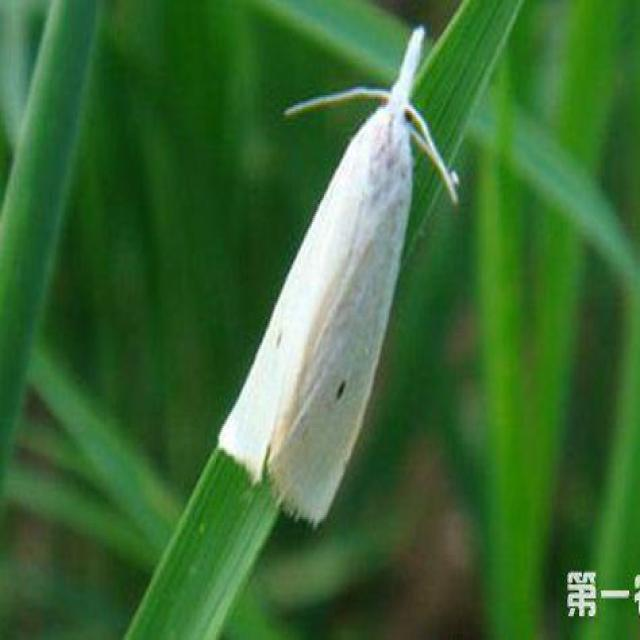yellow-stem-borer: (211, 20, 460, 539)
